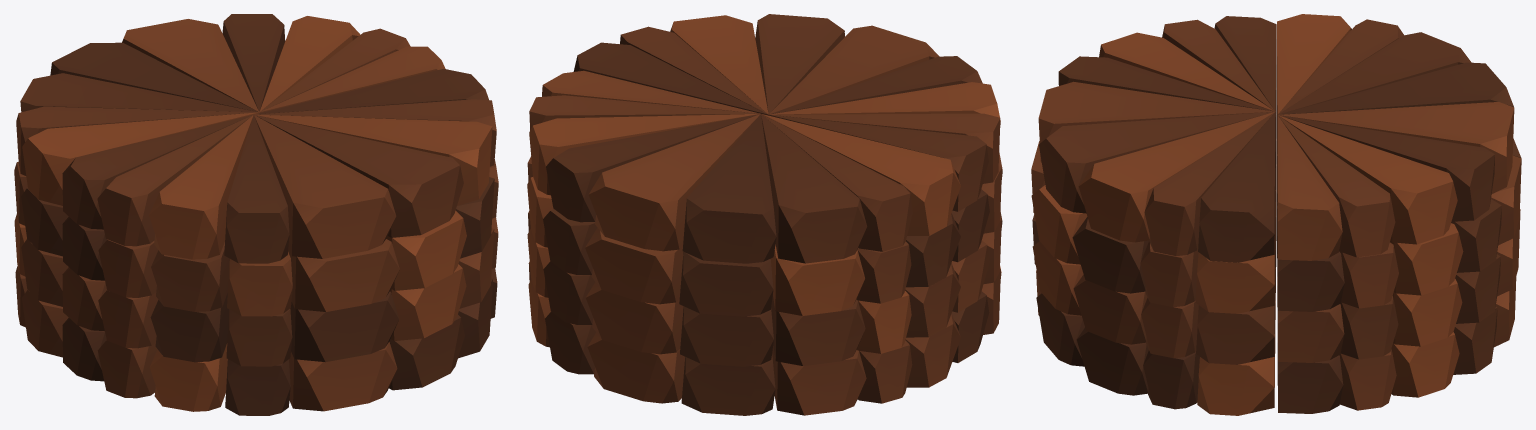
The model's file is stairs.fbx.
3 renders of one model, left to right at view 1: azimuth 30°, elevation 25°; view 2: azimuth 150°, elevation 25°; view 3: azimuth 270°, elevation 25°, orthographic.
Parts seen in each view (by area): view 1: stones_stair1, stones_stair2, stones_stair3, stones_stair4; view 2: stones_stair1, stones_stair2, stones_stair3, stones_stair4; view 3: stones_stair1, stones_stair2, stones_stair3, stones_stair4.
Boxes of the visible parts, box(x1,y1,x2,y2) form: stones_stair1: box(16, 14, 496, 263); stones_stair2: box(14, 159, 498, 316); stones_stair3: box(14, 214, 498, 366); stones_stair4: box(15, 266, 497, 415); stones_stair1: box(529, 14, 1000, 263); stones_stair2: box(527, 153, 1002, 316); stones_stair3: box(527, 211, 1002, 366); stones_stair4: box(528, 262, 1001, 415); stones_stair1: box(1038, 14, 1514, 262); stones_stair2: box(1031, 88, 1521, 313); stones_stair3: box(1032, 139, 1520, 364); stones_stair4: box(1036, 190, 1516, 415).
Size of the model in its own units: 212 by 102 by 222.
